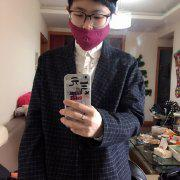WRONG: (70, 6, 113, 49)
